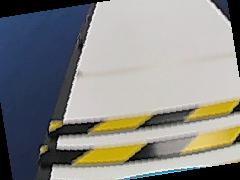bump: (50, 98, 240, 166)
